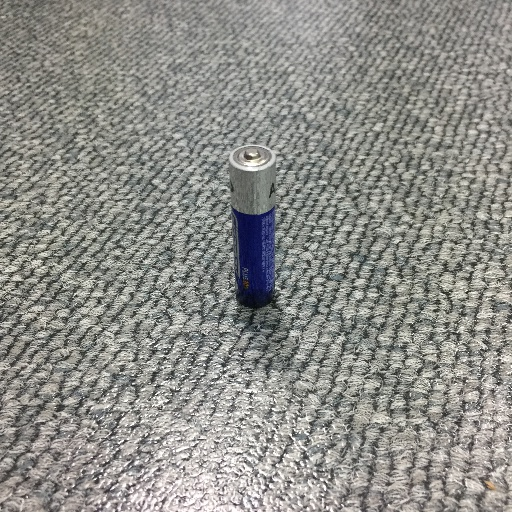Battery_0: (225, 130, 284, 312)
